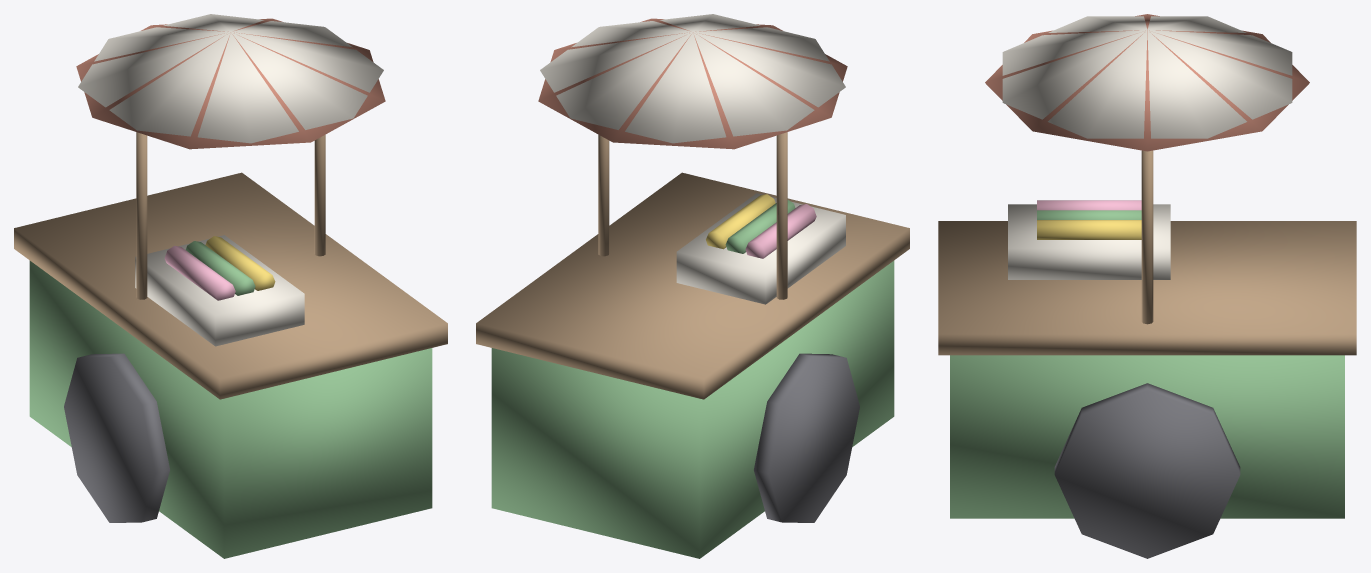
Rendered from roti_sai_mai_cart.glb.
3 views of the same model, side by side, from view 1: azimuth 30°, elevation 25°; view 2: azimuth 150°, elevation 25°; view 3: azimuth 270°, elevation 25° (orthographic).
Visible parts, largest first — view 1: cart_body, cart_table, canopy_w, wheel_l, box_tray, canopy_r, pole_l, roll_pink, pole_r, roll_green, roll_yellow; view 2: cart_body, cart_table, canopy_w, wheel_l, box_tray, canopy_r, pole_l, pole_r, roll_pink, roll_yellow, roll_green; view 3: cart_table, cart_body, canopy_w, wheel_r, box_tray, canopy_r, pole_r, roll_yellow, roll_pink, roll_green.
Boxes of the visible parts, x1,y1,x2,y2 form: cart_body: [29, 260, 432, 558]; cart_table: [14, 172, 447, 399]; canopy_w: [78, 14, 383, 143]; wheel_l: [64, 353, 169, 522]; box_tray: [135, 235, 304, 346]; canopy_r: [76, 18, 385, 149]; pole_l: [136, 132, 147, 299]; roll_pink: [164, 245, 235, 300]; pole_r: [314, 134, 325, 256]; roll_green: [185, 241, 255, 295]; roll_yellow: [205, 236, 275, 290]; cart_body: [491, 260, 894, 558]; cart_table: [476, 172, 909, 399]; canopy_w: [540, 14, 845, 143]; wheel_l: [754, 353, 859, 522]; box_tray: [676, 193, 845, 304]; canopy_r: [538, 18, 847, 149]; pole_l: [776, 132, 787, 299]; pole_r: [598, 134, 609, 256]; roll_pink: [745, 204, 816, 258]; roll_yellow: [706, 194, 775, 249]; roll_green: [725, 200, 795, 253]; cart_table: [938, 221, 1356, 355]; cart_body: [950, 355, 1344, 518]; canopy_w: [1002, 16, 1292, 138]; wheel_r: [1054, 383, 1240, 558]; box_tray: [1008, 204, 1170, 279]; canopy_r: [985, 14, 1309, 151]; pole_r: [1141, 150, 1153, 324]; roll_yellow: [1037, 220, 1141, 239]; roll_pink: [1037, 200, 1141, 210]; roll_green: [1037, 210, 1141, 219].
Bounding box in the file's own units: 0.56 × 0.89 × 0.72.
